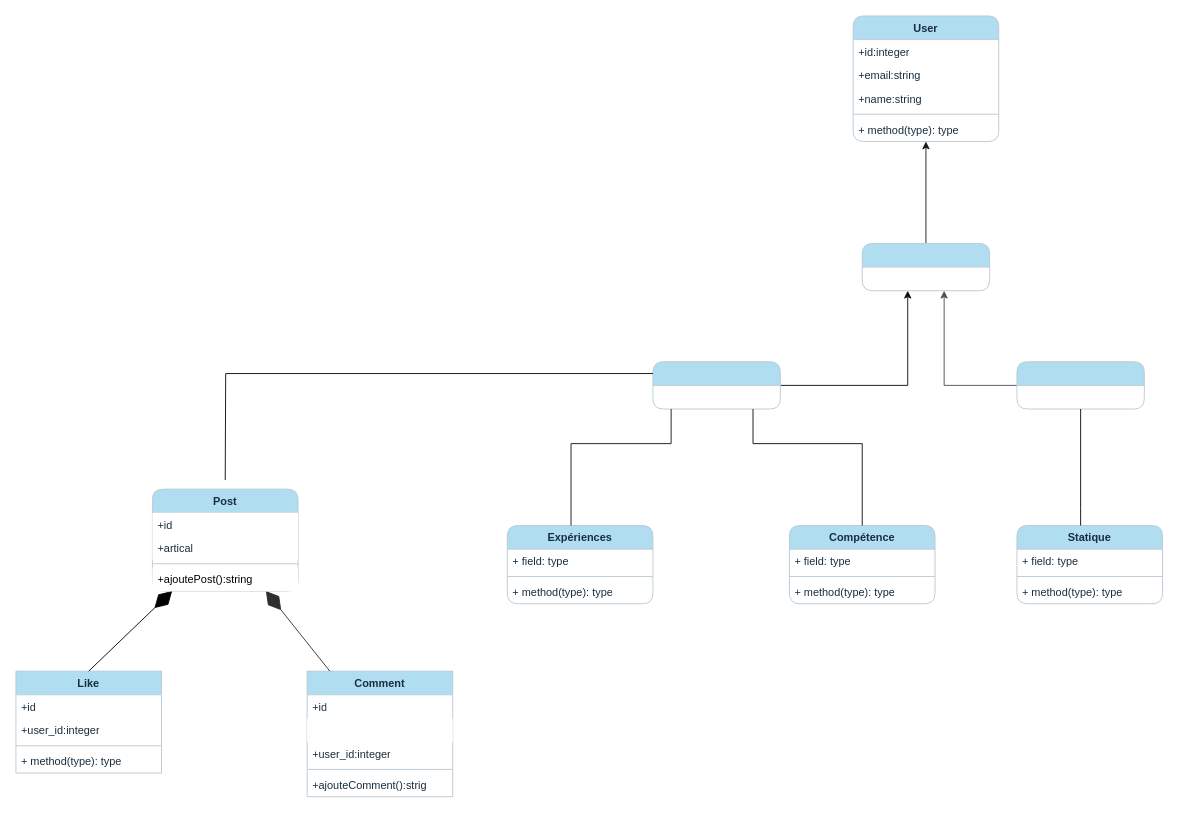
The diagram is 1178 pixels wide and 815 high, and some of its shapes have lost their labels. Here are the shapes that lost their labels. From the top down, the centre of each, then its label:
At (x=925, y=267): "Member".
At (x=716, y=385): "Member gratuits".
At (x=1080, y=385): "Member Premium".
At (x=379, y=730): "+description".
